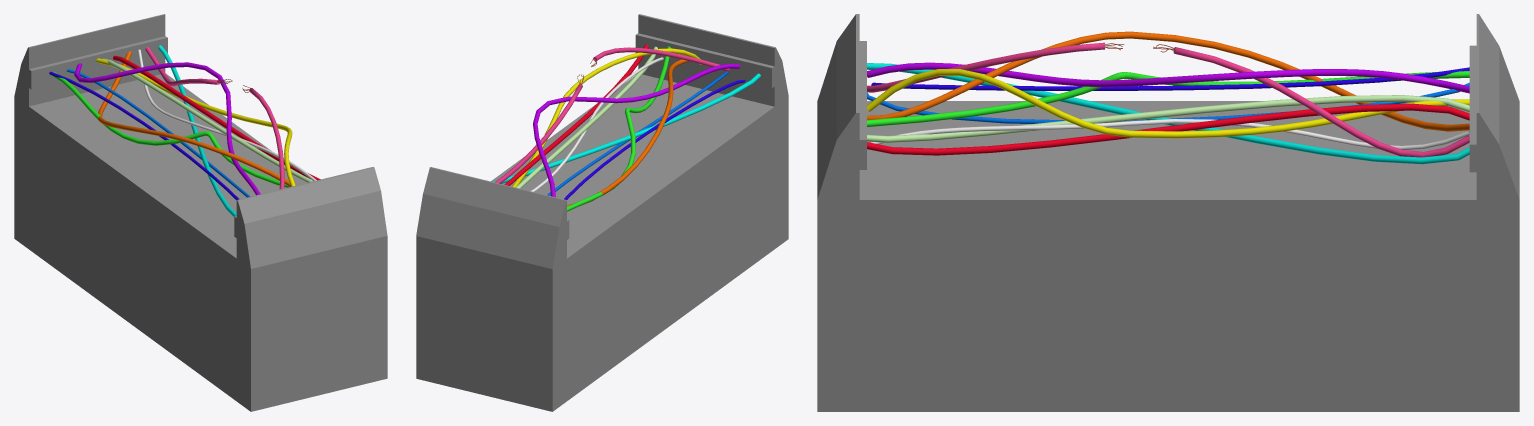
Rendered from itemCables.fbx.
3 views of the same model, side by side, from view 1: azimuth 30°, elevation 25°; view 2: azimuth 150°, elevation 25°; view 3: azimuth 270°, elevation 25° (orthographic). The views are drawn at different scales.
Visible parts, largest first — view 1: Cube, BezierCurve.005, BezierCurve.004, BezierCurve.002, BezierCurve.016, BezierCurve.006, BezierCurve.003, BezierCurve.001, BezierCurve, BezierCurve.018, BezierCurve.015, BezierCurve.017; view 2: Cube, BezierCurve.005, BezierCurve.006, BezierCurve, BezierCurve.003, BezierCurve.002, BezierCurve.004, BezierCurve.016, BezierCurve.001, BezierCurve.018, BezierCurve.017, BezierCurve.015; view 3: Cube, BezierCurve.005, BezierCurve.001, BezierCurve.003, BezierCurve.016, BezierCurve.004, BezierCurve.006, BezierCurve, BezierCurve.002, BezierCurve.015, BezierCurve.018, BezierCurve.017.
Boxes of the visible parts, box(x1,y1,x2,y2) form: Cube: box(14, 14, 387, 411); BezierCurve.005: box(74, 62, 260, 195); BezierCurve.004: box(98, 51, 296, 186); BezierCurve.002: box(52, 72, 289, 187); BezierCurve.016: box(103, 58, 312, 182); BezierCurve.006: box(145, 47, 284, 189); BezierCurve.003: box(96, 58, 295, 186); BezierCurve.001: box(113, 55, 320, 180); BezierCurve: box(158, 45, 236, 216); BezierCurve.018: box(49, 71, 239, 199); BezierCurve.015: box(138, 49, 316, 181); BezierCurve.017: box(66, 69, 250, 197); Cube: box(416, 14, 788, 411); BezierCurve.005: box(533, 64, 740, 197); BezierCurve.006: box(494, 47, 729, 183); BezierCurve: box(492, 73, 760, 183); BezierCurve.003: box(512, 48, 701, 187); BezierCurve.002: box(567, 46, 670, 211); BezierCurve.004: box(567, 59, 689, 206); BezierCurve.016: box(516, 46, 657, 188); BezierCurve.001: box(504, 44, 648, 185); BezierCurve.018: box(564, 80, 745, 199); BezierCurve.017: box(547, 71, 728, 195); BezierCurve.015: box(530, 57, 663, 191); Cube: box(817, 14, 1519, 411); BezierCurve.005: box(867, 62, 1469, 93); BezierCurve.001: box(867, 103, 1469, 155); BezierCurve.003: box(867, 69, 1469, 138); BezierCurve.016: box(867, 95, 1469, 142); BezierCurve.004: box(867, 31, 1469, 131); BezierCurve.006: box(867, 42, 1469, 157); BezierCurve: box(867, 63, 1469, 164); BezierCurve.002: box(867, 71, 1469, 127); BezierCurve.015: box(871, 119, 1469, 150); BezierCurve.018: box(871, 67, 1469, 90); BezierCurve.017: box(867, 82, 1469, 123).
Bounding box in the file's own units: 200 × 321 × 600.
